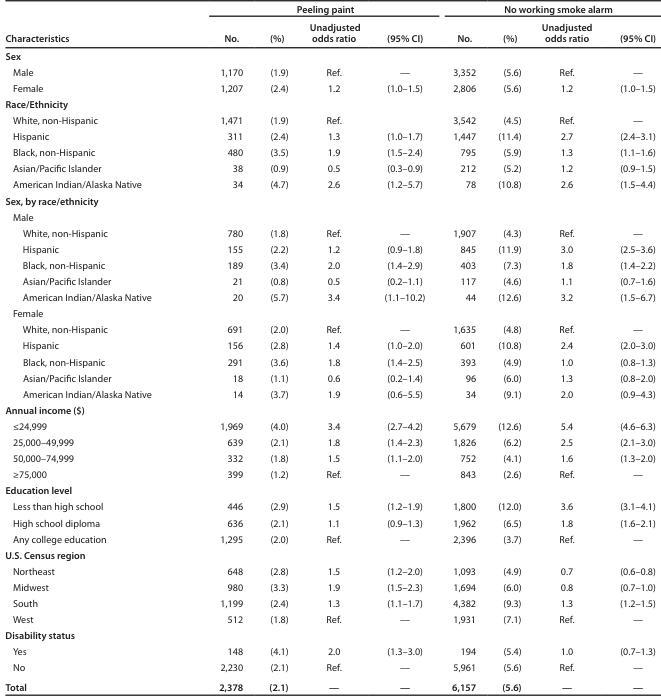table: (4, 4, 655, 691)
table column: (4, 4, 184, 691), (530, 4, 605, 691), (298, 4, 371, 691), (184, 4, 255, 691), (371, 4, 437, 691), (605, 4, 655, 691), (437, 4, 486, 691), (486, 4, 530, 691), (255, 4, 298, 691)
table column header: (4, 4, 655, 47)
table projected row header: (4, 47, 655, 64), (4, 208, 655, 225), (4, 546, 655, 563), (4, 96, 655, 112), (4, 192, 655, 208), (4, 305, 655, 321), (4, 402, 655, 418), (4, 482, 655, 498), (4, 627, 655, 643)
table row: (4, 18, 655, 47), (4, 659, 655, 677), (4, 47, 655, 64), (4, 208, 655, 225), (4, 385, 655, 402), (4, 546, 655, 563), (4, 64, 655, 80), (4, 80, 655, 96), (4, 96, 655, 112), (4, 112, 655, 128), (4, 128, 655, 144), (4, 144, 655, 160), (4, 160, 655, 176), (4, 176, 655, 192), (4, 192, 655, 208), (4, 225, 655, 241), (4, 241, 655, 257), (4, 257, 655, 273), (4, 273, 655, 289), (4, 289, 655, 305), (4, 305, 655, 321), (4, 321, 655, 337), (4, 337, 655, 353), (4, 353, 655, 369), (4, 369, 655, 385), (4, 402, 655, 418), (4, 418, 655, 434), (4, 434, 655, 450), (4, 450, 655, 466), (4, 466, 655, 482), (4, 482, 655, 498), (4, 498, 655, 514), (4, 514, 655, 530), (4, 530, 655, 546), (4, 563, 655, 579), (4, 579, 655, 595), (4, 595, 655, 611), (4, 611, 655, 627), (4, 627, 655, 643), (4, 643, 655, 659), (4, 4, 655, 18), (4, 677, 655, 691)
table spanning cell: (4, 4, 184, 47), (184, 4, 437, 18), (437, 4, 655, 18)
